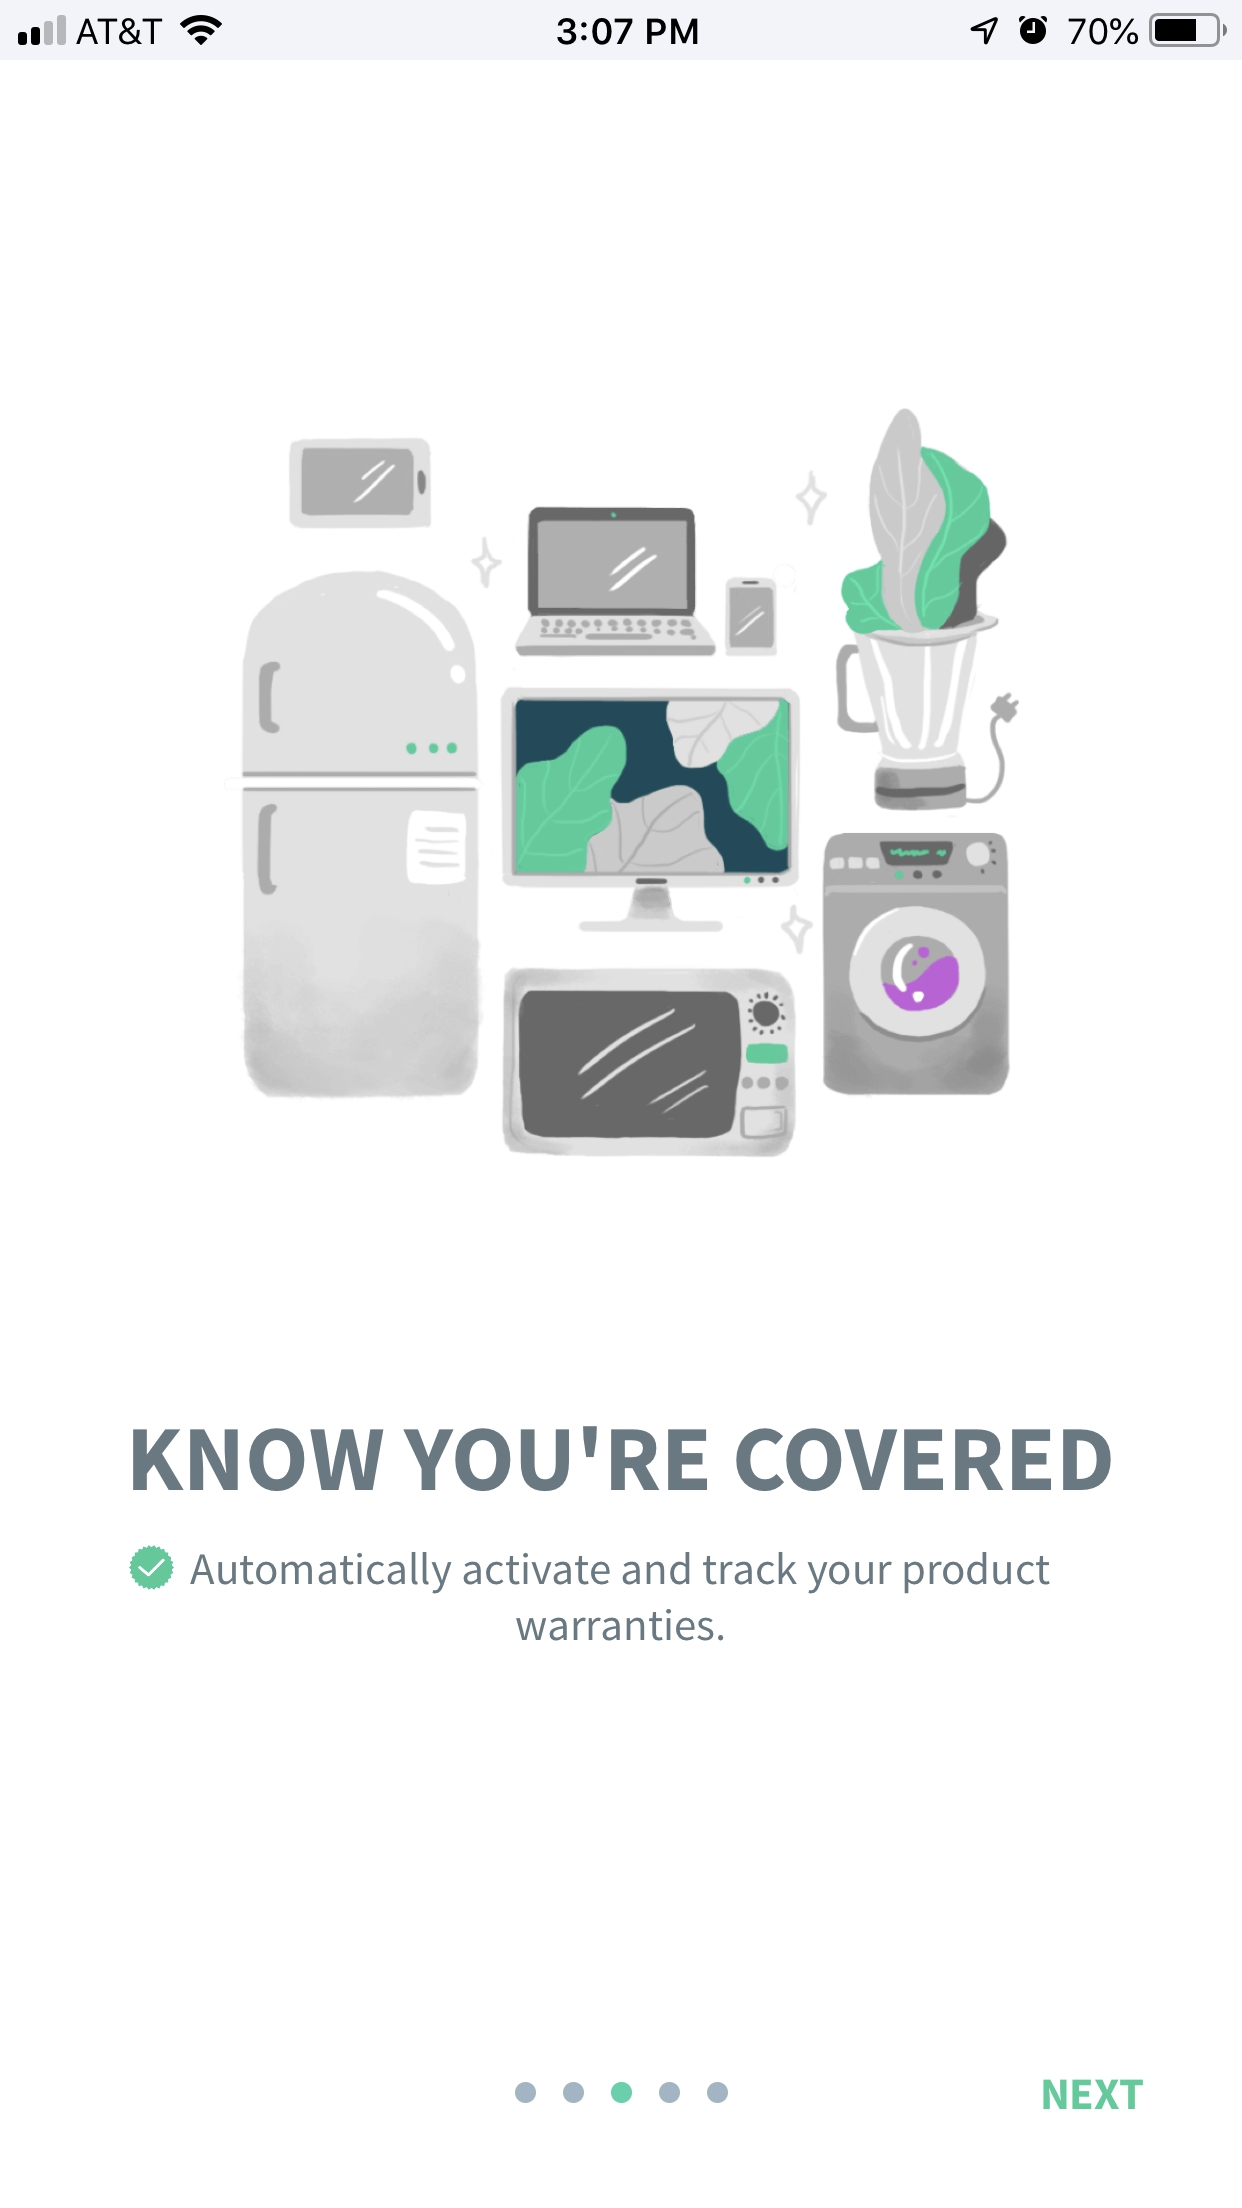Icon: (130, 1545, 176, 1591)
Image: (241, 406, 1021, 1159)
PageIndicator: (516, 2081, 729, 2103)
Text: (190, 1551, 1049, 1642), (133, 1425, 1112, 1492), (1042, 2078, 1143, 2109)
UpperTaskBar: (2, 2, 1242, 61)
